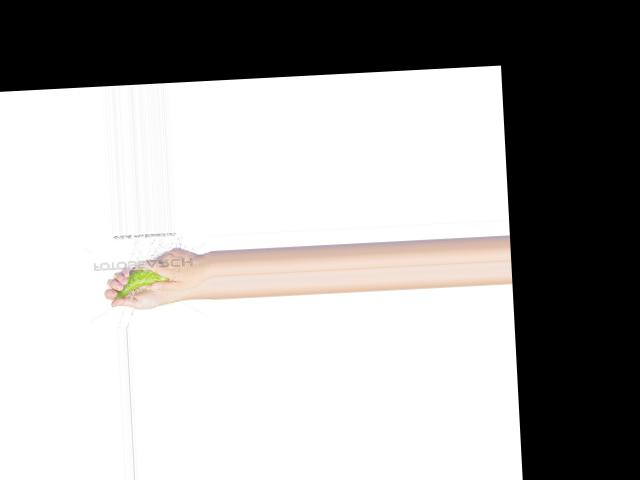cucumber: (113, 266, 171, 298)
